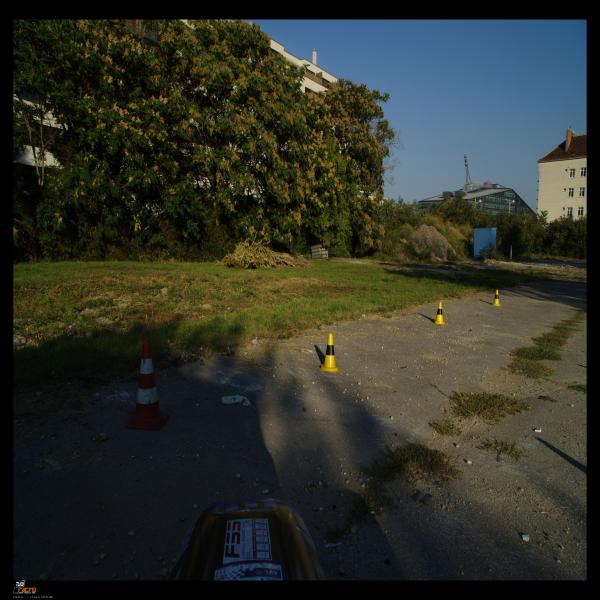large_orange_cone: (126, 338, 169, 432)
yellow_cone: (318, 333, 340, 373), (432, 302, 446, 324), (491, 290, 501, 306)
